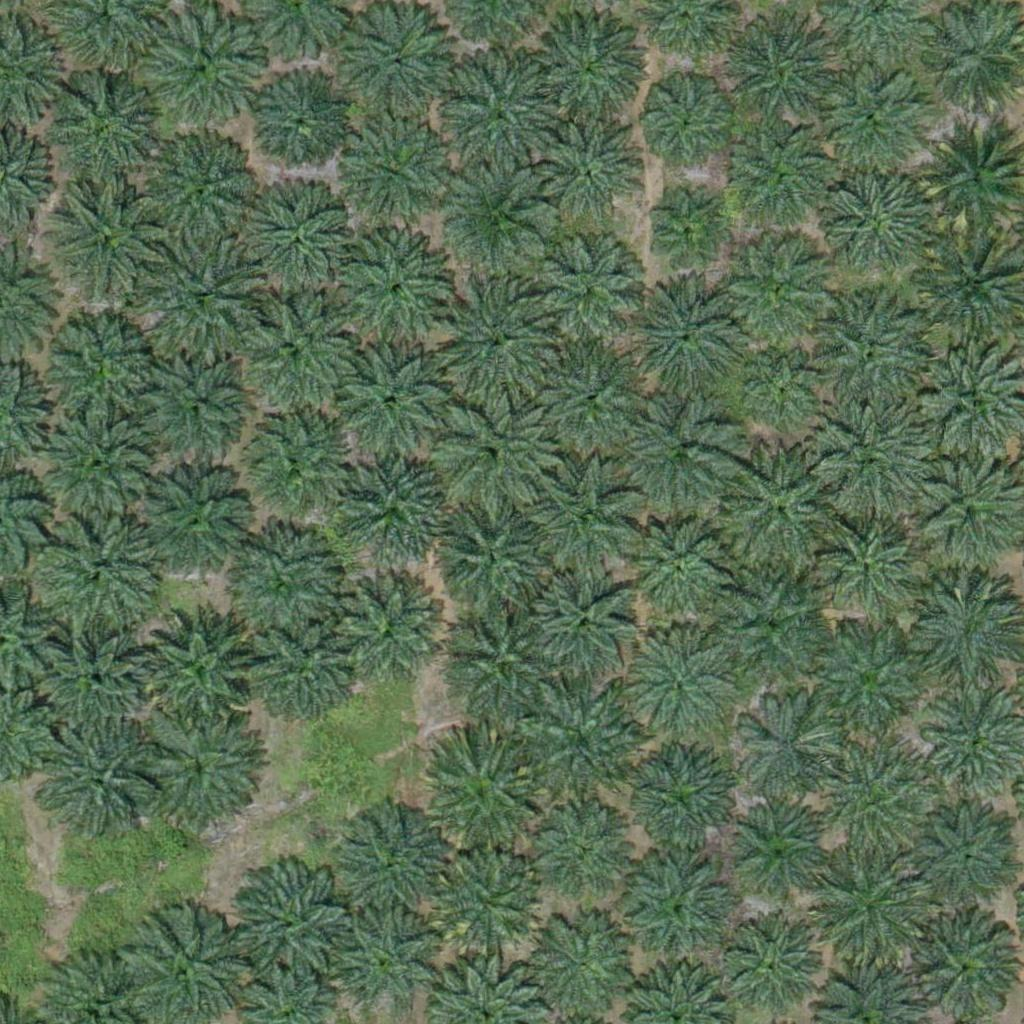Kelapa_Sawit: (439, 56, 564, 182), (138, 130, 263, 256), (44, 71, 169, 197), (44, 183, 169, 309), (41, 402, 166, 528), (40, 510, 165, 636), (36, 718, 161, 844), (222, 292, 347, 418), (135, 603, 260, 729), (139, 707, 264, 833), (432, 277, 557, 403), (428, 392, 553, 518), (724, 448, 849, 574), (810, 295, 935, 421), (226, 861, 351, 987), (136, 2, 261, 127), (41, 308, 166, 433), (227, 403, 352, 528), (216, 521, 341, 646), (419, 736, 544, 861), (815, 170, 928, 284), (726, 13, 839, 127), (533, 343, 646, 457), (530, 236, 643, 350), (906, 801, 1019, 915), (441, 164, 554, 277), (335, 118, 448, 231), (136, 466, 249, 579), (137, 352, 250, 465), (150, 237, 263, 350), (242, 611, 355, 724), (529, 568, 642, 681), (526, 464, 639, 577), (625, 748, 738, 861), (816, 400, 929, 513), (910, 577, 1023, 690), (625, 284, 737, 398), (627, 398, 739, 512), (715, 577, 827, 691), (810, 628, 922, 742), (906, 909, 1018, 1023), (815, 848, 927, 962), (531, 8, 643, 121), (252, 187, 364, 300), (34, 626, 146, 739), (333, 574, 445, 687), (340, 449, 452, 562), (332, 346, 444, 459), (337, 236, 449, 349), (437, 506, 549, 619), (444, 604, 556, 717), (526, 691, 638, 804), (814, 748, 926, 861), (524, 907, 636, 1020), (540, 122, 640, 223), (252, 73, 352, 174), (633, 633, 733, 734), (727, 804, 827, 905), (727, 246, 827, 347), (720, 915, 820, 1016), (628, 857, 728, 958), (531, 800, 631, 901), (437, 850, 537, 951), (347, 812, 447, 913), (335, 910, 435, 1011), (824, 65, 924, 165), (732, 125, 832, 225), (626, 516, 726, 616), (733, 701, 833, 801), (819, 512, 919, 612), (643, 81, 731, 169), (646, 196, 721, 272), (748, 355, 823, 431)
